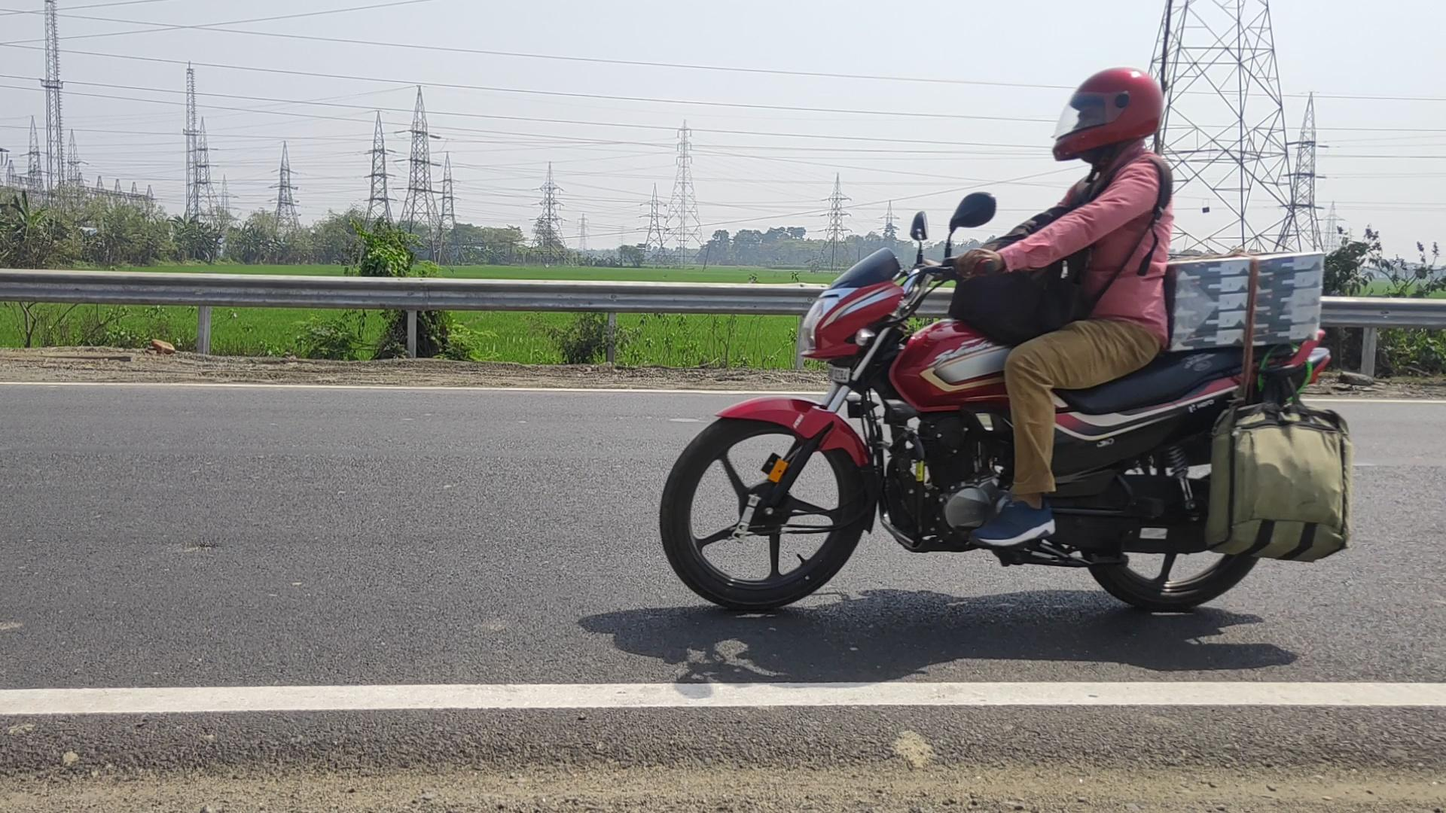bike: (660, 65, 1347, 614)
